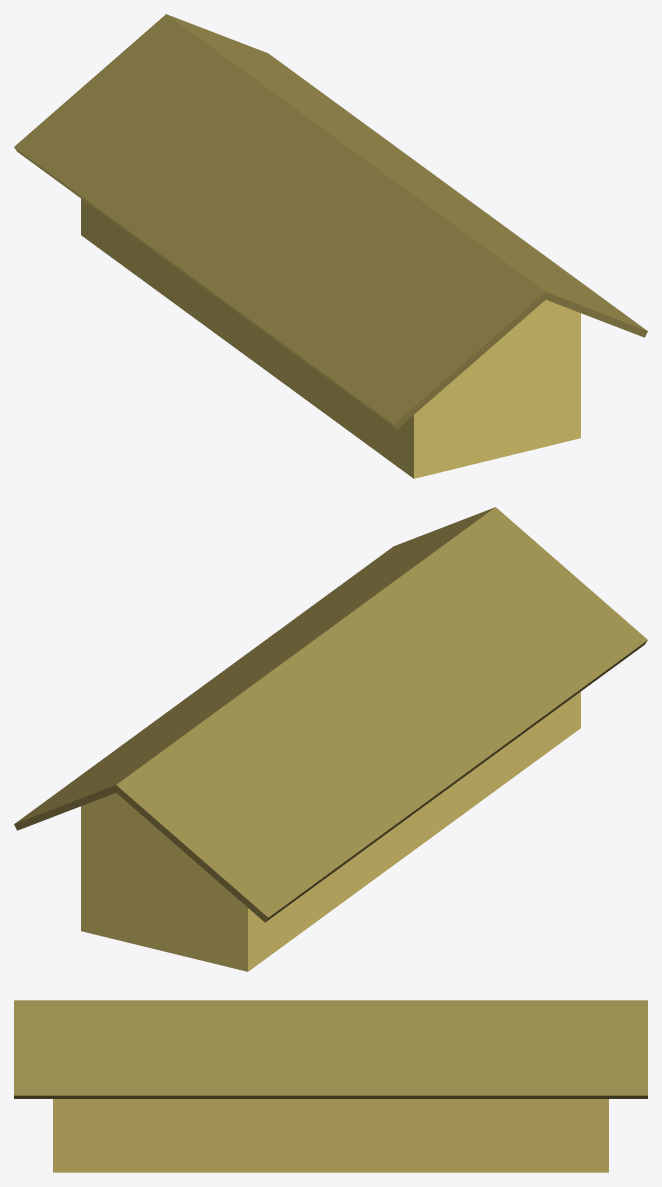
File: result.glb
The picture shows the model from 3 angles, top to bottom: view 1: azimuth 30°, elevation 25°; view 2: azimuth 150°, elevation 25°; view 3: azimuth 270°, elevation 25°; orthographic projection. The views are drawn at different scales.
Parts seen in each view (by area): view 1: 17bfaafb-1dc9-435c-800a-448fa821cb7a__undefined (×2), 247a0c57-7006-41c4-a8b0-a6ee18eb8d35__undefined; view 2: 17bfaafb-1dc9-435c-800a-448fa821cb7a__undefined (×2), 247a0c57-7006-41c4-a8b0-a6ee18eb8d35__undefined; view 3: 17bfaafb-1dc9-435c-800a-448fa821cb7a__undefined, 247a0c57-7006-41c4-a8b0-a6ee18eb8d35__undefined.
Part boxes in pixels (left/top/right/bottom): 17bfaafb-1dc9-435c-800a-448fa821cb7a__undefined (×2): left=14, top=14, right=647, bottom=429; 247a0c57-7006-41c4-a8b0-a6ee18eb8d35__undefined: left=81, top=199, right=580, bottom=478; 17bfaafb-1dc9-435c-800a-448fa821cb7a__undefined (×2): left=14, top=507, right=647, bottom=922; 247a0c57-7006-41c4-a8b0-a6ee18eb8d35__undefined: left=81, top=692, right=580, bottom=971; 17bfaafb-1dc9-435c-800a-448fa821cb7a__undefined: left=14, top=1000, right=647, bottom=1098; 247a0c57-7006-41c4-a8b0-a6ee18eb8d35__undefined: left=53, top=1099, right=608, bottom=1172.
Bounding box in the file's own units: 1000 × 667 × 2584.
